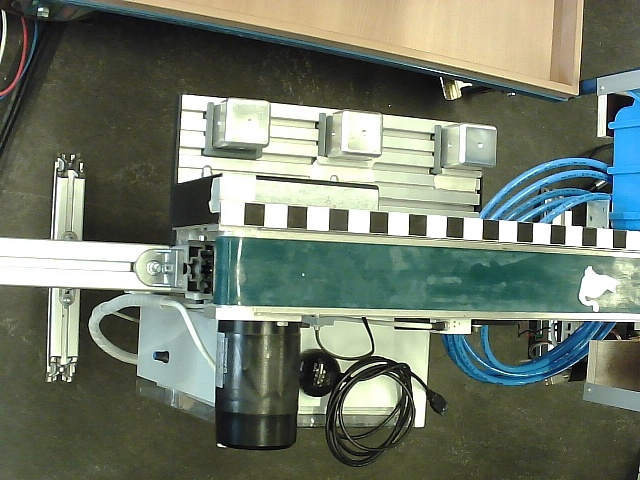cat: (578, 266, 622, 314)
